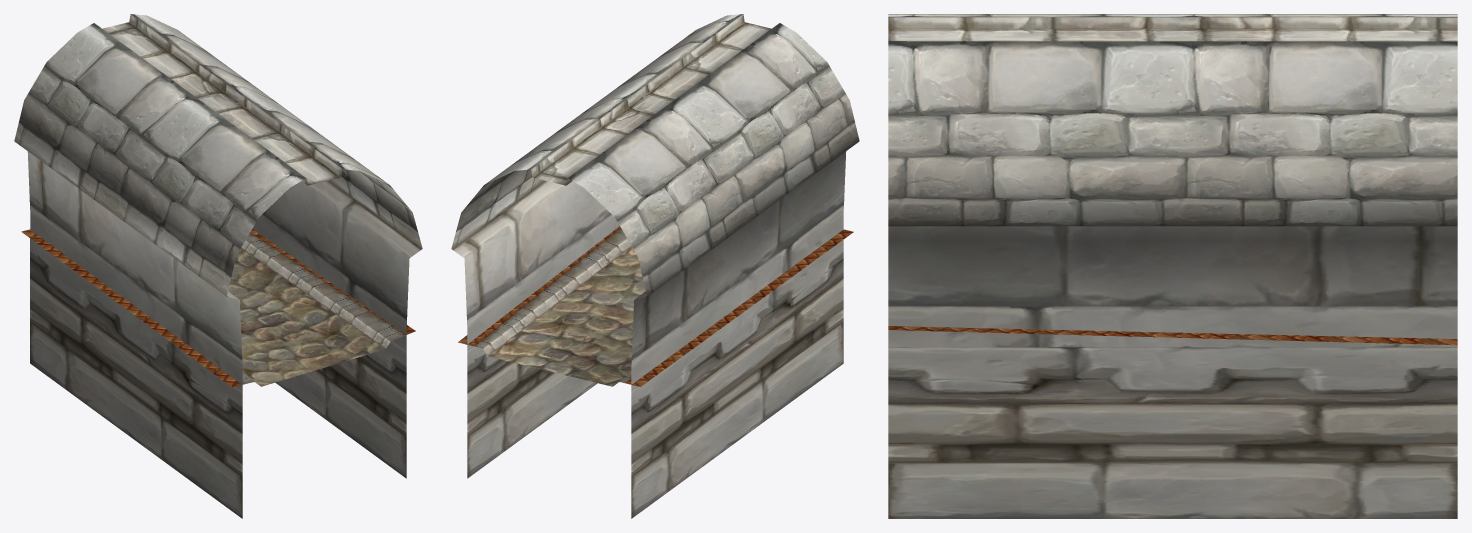
File: stormwind_017.fbx
The picture shows the model from 3 angles, left to right: view 1: azimuth 30°, elevation 25°; view 2: azimuth 150°, elevation 25°; view 3: azimuth 270°, elevation 25°; orthographic projection. The views are drawn at different scales.
Parts seen in each view (by area): view 1: stormwind_017_11, stormwind_017_4, stormwind_017_46, stormwind_017_5, stormwind_017_12; view 2: stormwind_017_11, stormwind_017_4, stormwind_017_46, stormwind_017_5, stormwind_017_12; view 3: stormwind_017_11, stormwind_017_4, stormwind_017_5, stormwind_017_12.
Part boxes in pixels (bbox=[...]): stormwind_017_11: bbox=[27, 151, 422, 518]; stormwind_017_4: bbox=[14, 14, 422, 296]; stormwind_017_46: bbox=[228, 248, 385, 386]; stormwind_017_5: bbox=[102, 14, 342, 185]; stormwind_017_12: bbox=[21, 229, 415, 387]; stormwind_017_11: bbox=[452, 151, 846, 518]; stormwind_017_4: bbox=[451, 14, 859, 296]; stormwind_017_46: bbox=[488, 246, 645, 386]; stormwind_017_5: bbox=[531, 14, 771, 185]; stormwind_017_12: bbox=[458, 226, 853, 386]; stormwind_017_11: bbox=[888, 226, 1457, 518]; stormwind_017_4: bbox=[888, 14, 1457, 226]; stormwind_017_5: bbox=[888, 17, 1457, 41]; stormwind_017_12: bbox=[888, 326, 1457, 345].
Size of the model in its own units: 10.07 by 15.95 by 18.89.
